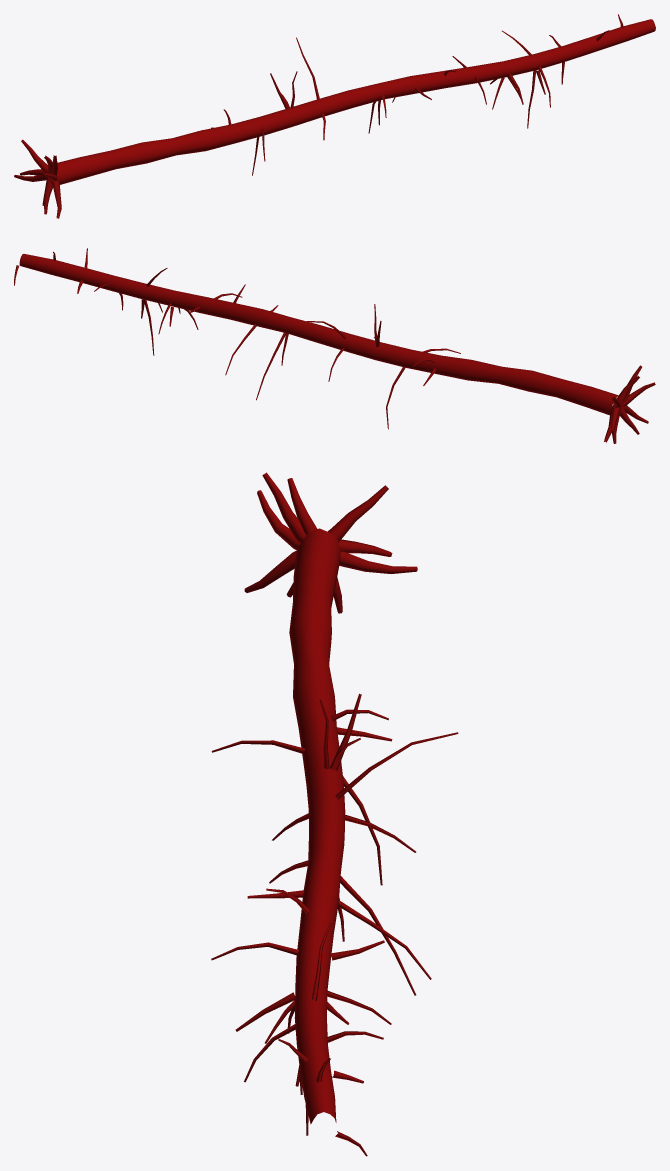
The model's file is fallen_birch.glb.
The picture shows the model from 3 angles, top to bottom: view 1: azimuth 30°, elevation 25°; view 2: azimuth 150°, elevation 25°; view 3: azimuth 270°, elevation 25°; orthographic projection. The views are drawn at different scales.
Visible parts, largest first — view 1: LOD0; view 2: LOD0; view 3: LOD0.
Boxes of the visible parts, <box> form: LOD0: <box>14,14,655,218</box>; LOD0: <box>14,248,655,443</box>; LOD0: <box>211,472,458,1156</box>.
Size of what is drawn, in the model's own units: 10.44 by 1.75 by 1.81.
